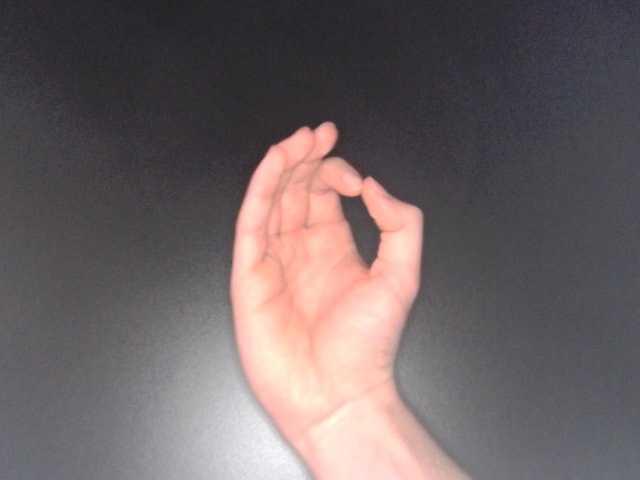o: (223, 118, 428, 455)
